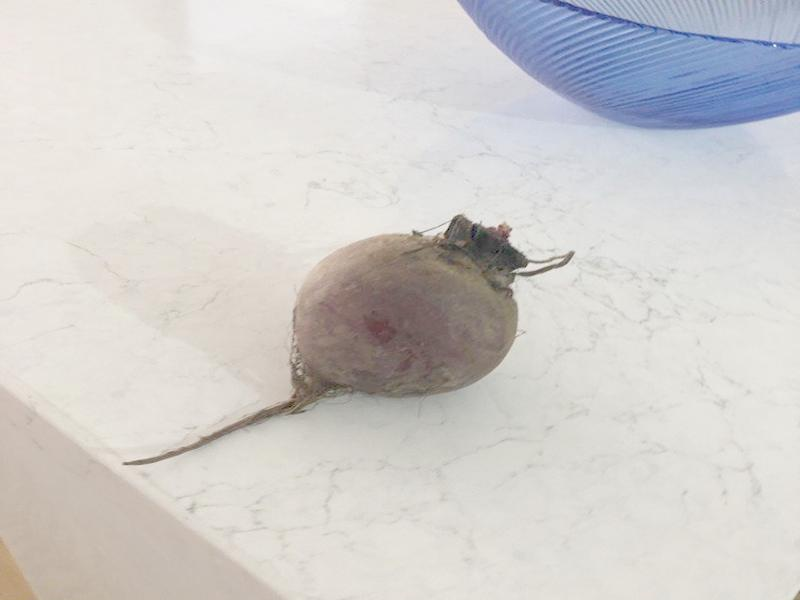Beet: (124, 216, 571, 467)
